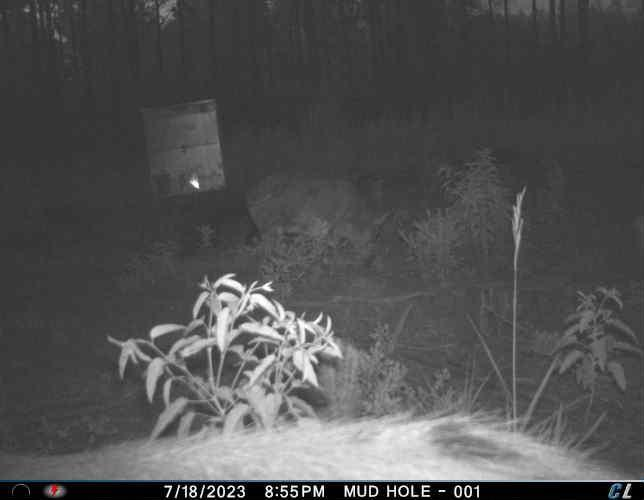Hog: (244, 169, 398, 265)
